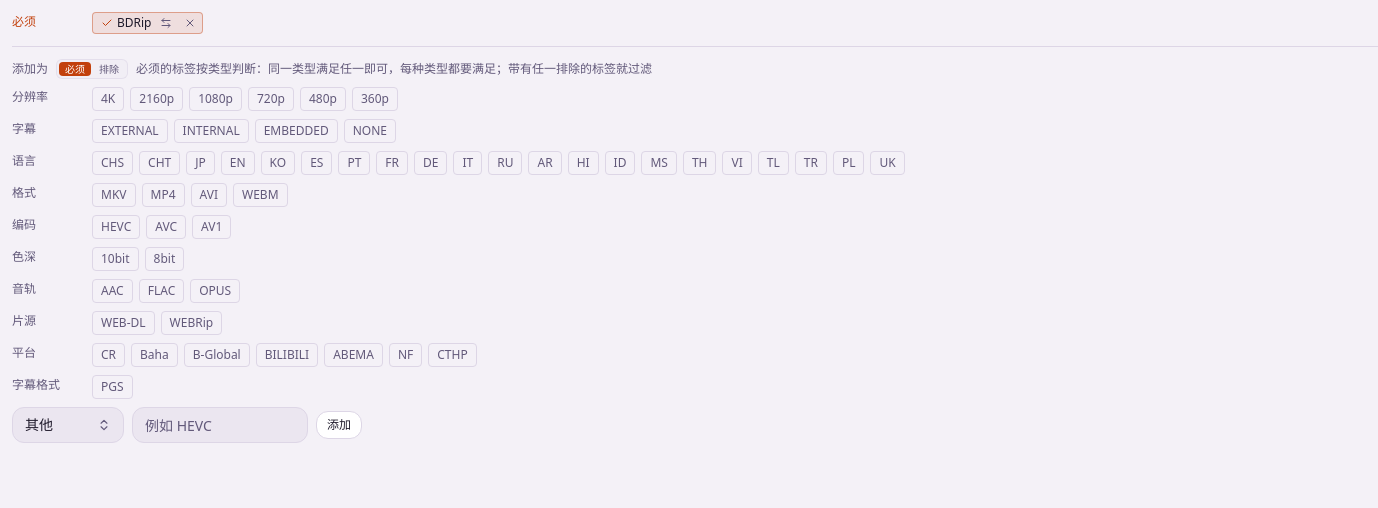
Test: TagRowEditor（添加型） › 手动输入：回车添加为当前角色，重复（忽略大小写，两个列表都查）时提示且不添加
Click the radio button labelled "排除" at x=109, y=69, box [99,62,119,76]
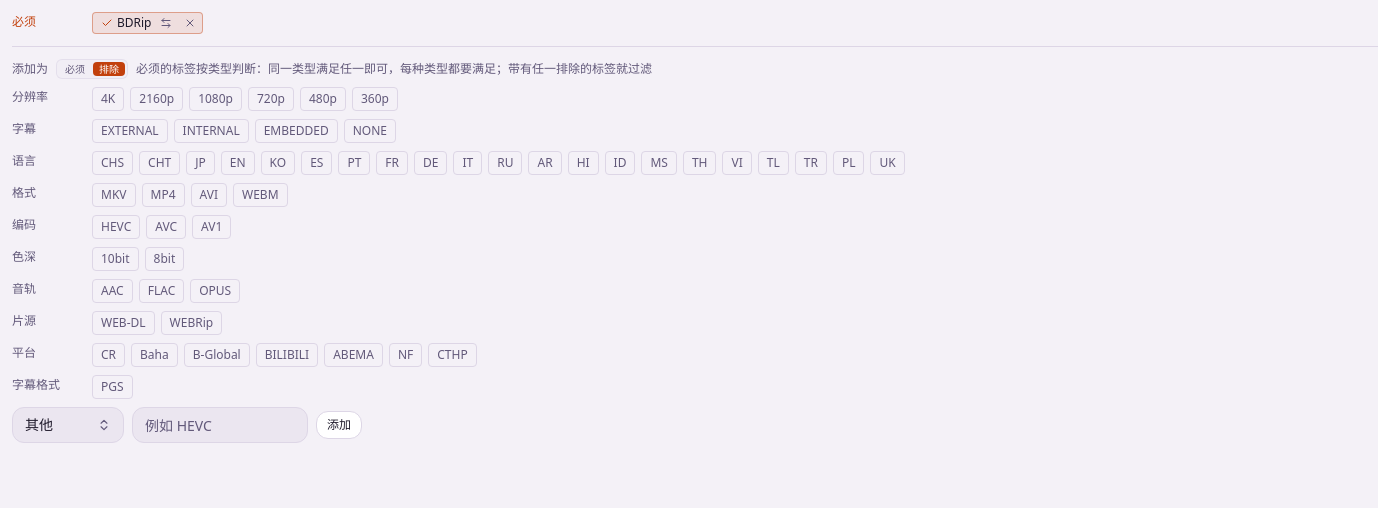
Type " DV " into the field named "标签值" at x=220, y=425, box [132,407,308,443]
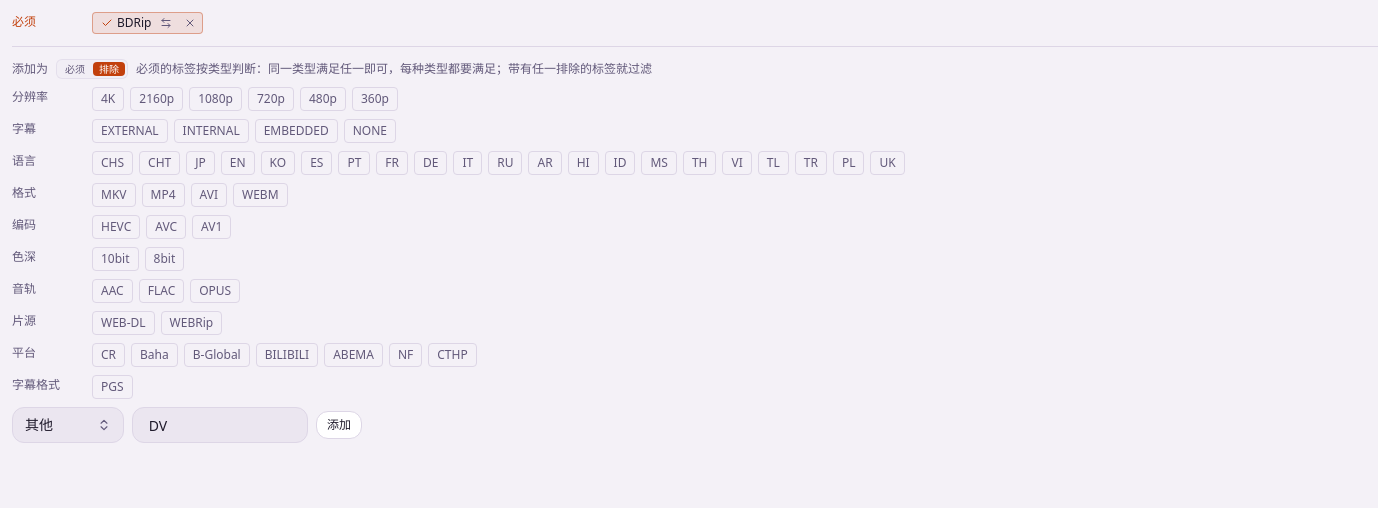
Press Enter in the field named "标签值", box [132,407,308,443]
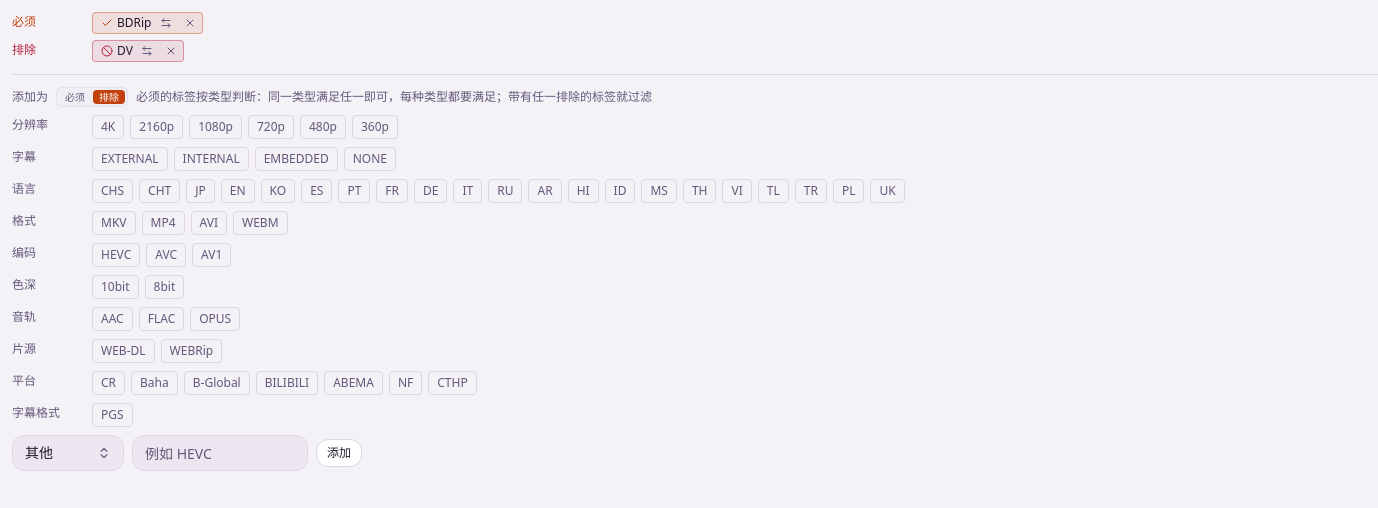
Now the field named "标签值" is empty
Type "bdrip" into the field named "标签值" at x=220, y=453, box [132,435,308,471]
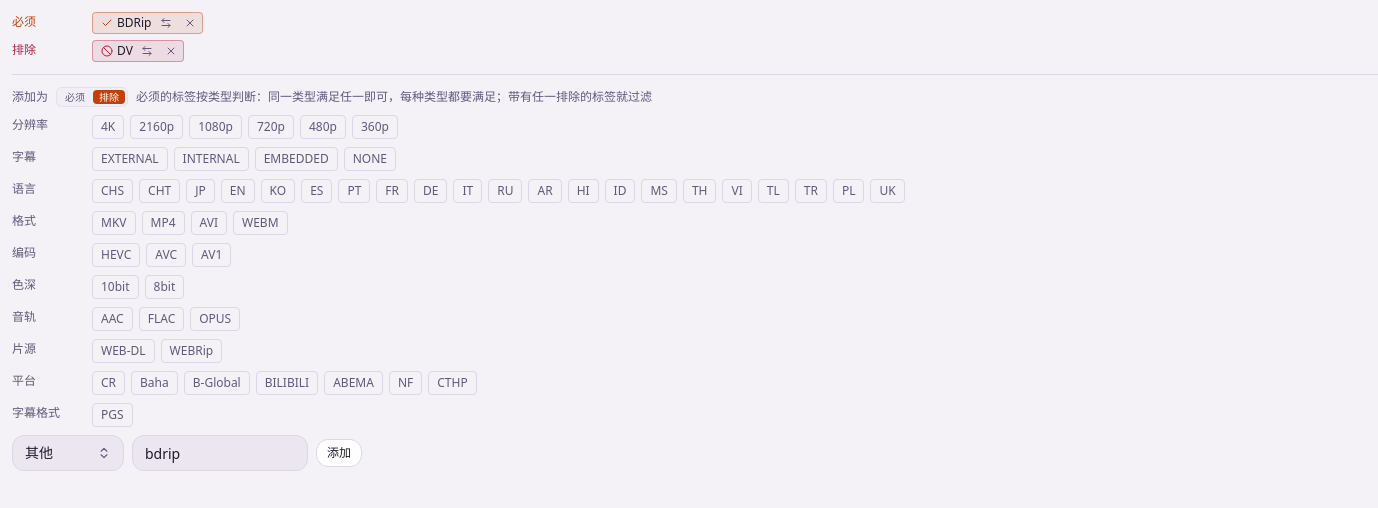
Press Enter in the field named "标签值", box [132,435,308,471]
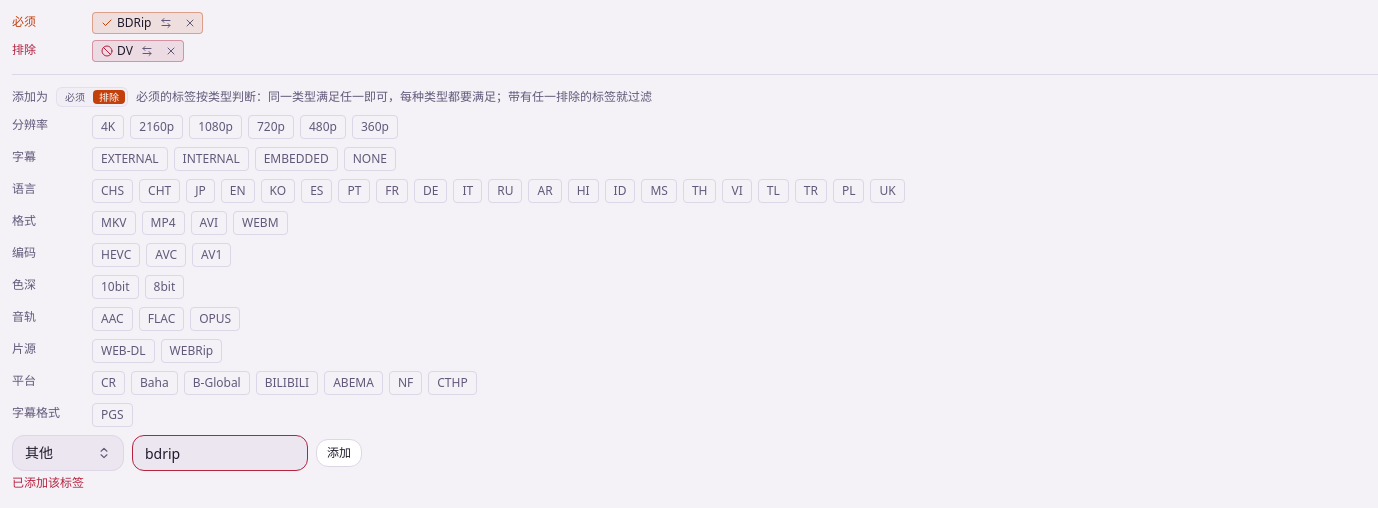
Now the message reads "已添加该标签", box [12,474,84,491]
